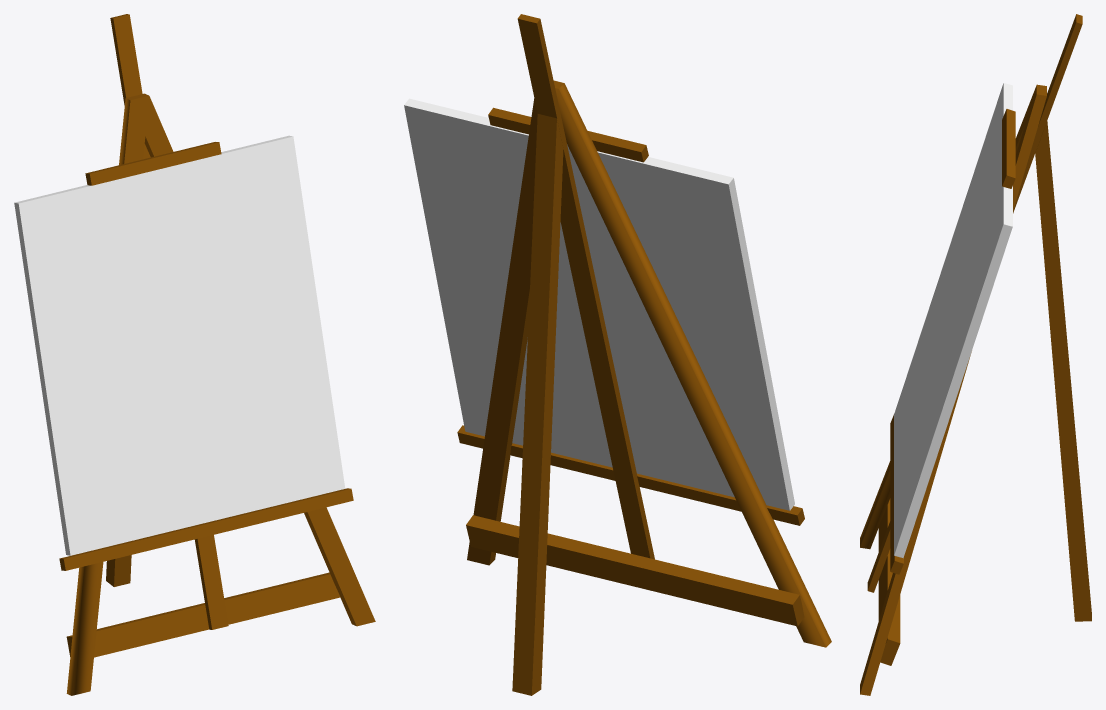
The model's file is stm_env_BigEasel.fbx.
3 views of the same model, side by side, from view 1: azimuth 30°, elevation 25°; view 2: azimuth 150°, elevation 25°; view 3: azimuth 270°, elevation 25° (orthographic). The views are drawn at different scales.
Visible parts, largest first — view 1: Canvas, Cube_2, Cube, Cube_5, Cube_1, Cube_3, Cube_6, Cube_4; view 2: Canvas, Cube_4, Cube, Cube_3, Cube_2, Cube_1, Cube_5, Cube_6; view 3: Canvas, Cube_4, Cube_1, Cube_3, Cube_2, Cube, Cube_6, Cube_5.
Boxes of the visible parts, bbox=[...] form: Canvas: bbox=[14, 135, 345, 555]; Cube_2: bbox=[66, 572, 340, 657]; Cube: bbox=[66, 93, 149, 695]; Cube_5: bbox=[59, 488, 353, 570]; Cube_1: bbox=[144, 96, 375, 626]; Cube_3: bbox=[110, 14, 228, 629]; Cube_6: bbox=[85, 142, 221, 185]; Cube_4: bbox=[106, 555, 131, 586]; Canvas: bbox=[404, 98, 794, 510]; Cube_4: bbox=[512, 114, 563, 695]; Cube: bbox=[553, 80, 831, 647]; Cube_3: bbox=[517, 14, 654, 559]; Cube_2: bbox=[466, 515, 804, 626]; Cube_1: bbox=[467, 98, 537, 565]; Cube_5: bbox=[457, 425, 804, 525]; Cube_6: bbox=[488, 107, 648, 162]; Canvas: bbox=[894, 83, 1012, 558]; Cube_4: bbox=[1035, 121, 1091, 621]; Cube_1: bbox=[860, 94, 1046, 695]; Cube_3: bbox=[867, 14, 1082, 592]; Cube_2: bbox=[878, 498, 900, 665]; Cube: bbox=[860, 84, 1046, 549]; Cube_6: bbox=[1002, 109, 1015, 188]; Cube_5: bbox=[890, 415, 903, 574].
Size of the model in its own units: 320 by 572 by 200.
